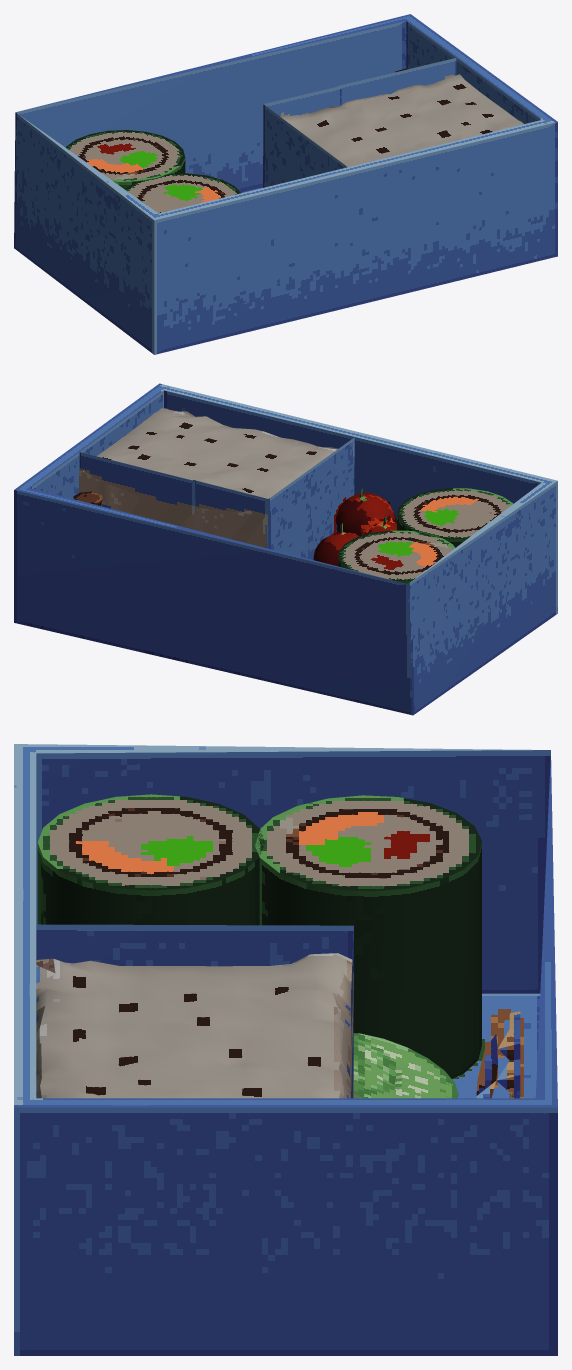
File: bento_sushi.glb
3 renders of one model, top to bottom at view 1: azimuth 30°, elevation 25°; view 2: azimuth 150°, elevation 25°; view 3: azimuth 270°, elevation 25°, orthographic. The views are drawn at different scales.
Parts seen in each view (by area): view 1: mesh; view 2: mesh; view 3: mesh.
Boxes of the visible parts, x1,y1,x2,y2 form: mesh: [14, 14, 557, 354]; mesh: [14, 383, 557, 715]; mesh: [14, 744, 557, 1355].
Bounding box in the file's own units: 0.1884 × 0.06 × 0.1191.
1 material, 1 textured.
